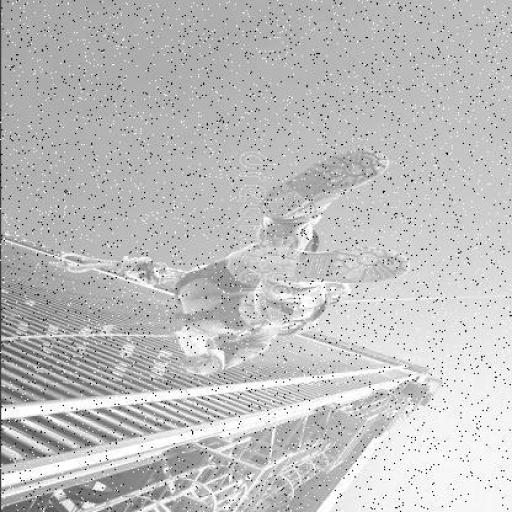safety_shoe: (240, 150, 391, 236), (240, 244, 411, 309)
